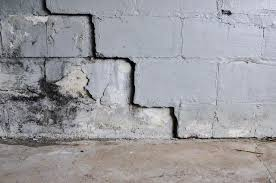stairstep_crack: (40, 0, 275, 140)
